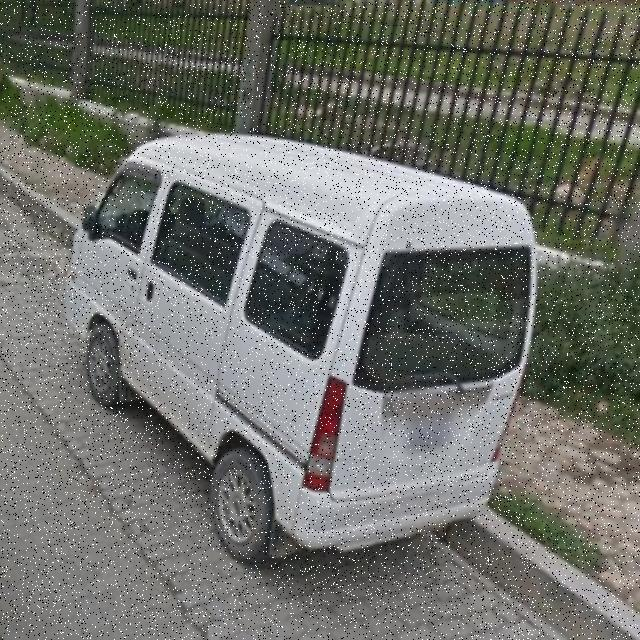cars: (68, 84, 526, 552)
